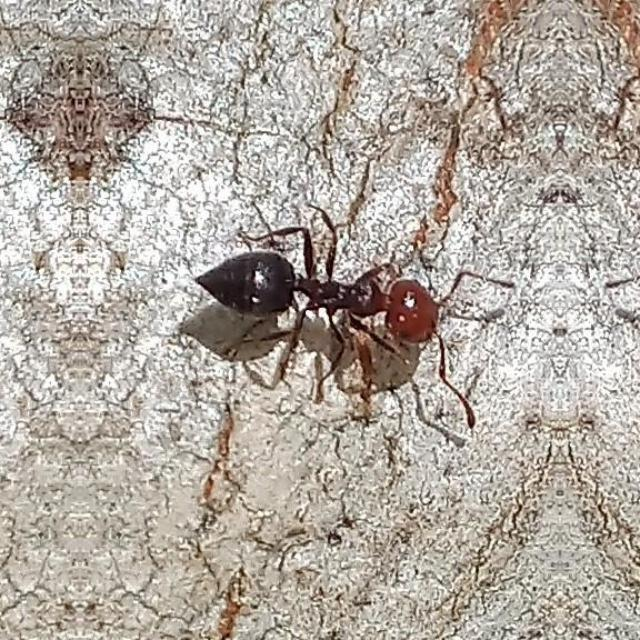Crematogaster: (218, 227, 484, 357)
